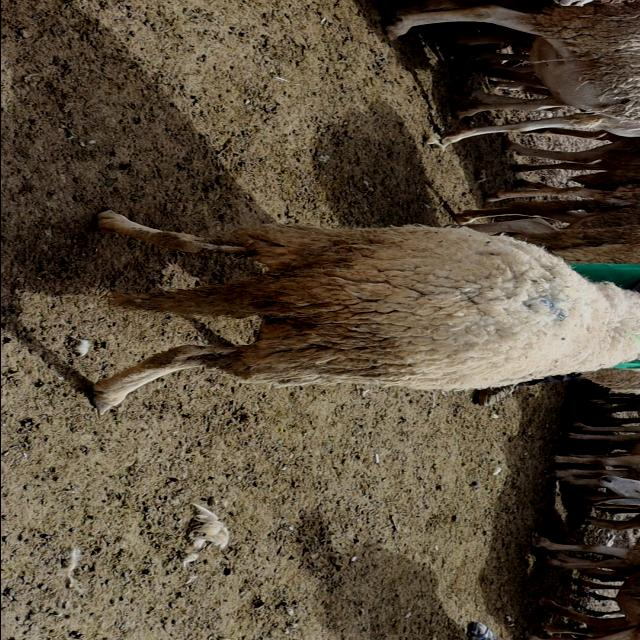Score_3: (91, 210, 640, 414)
